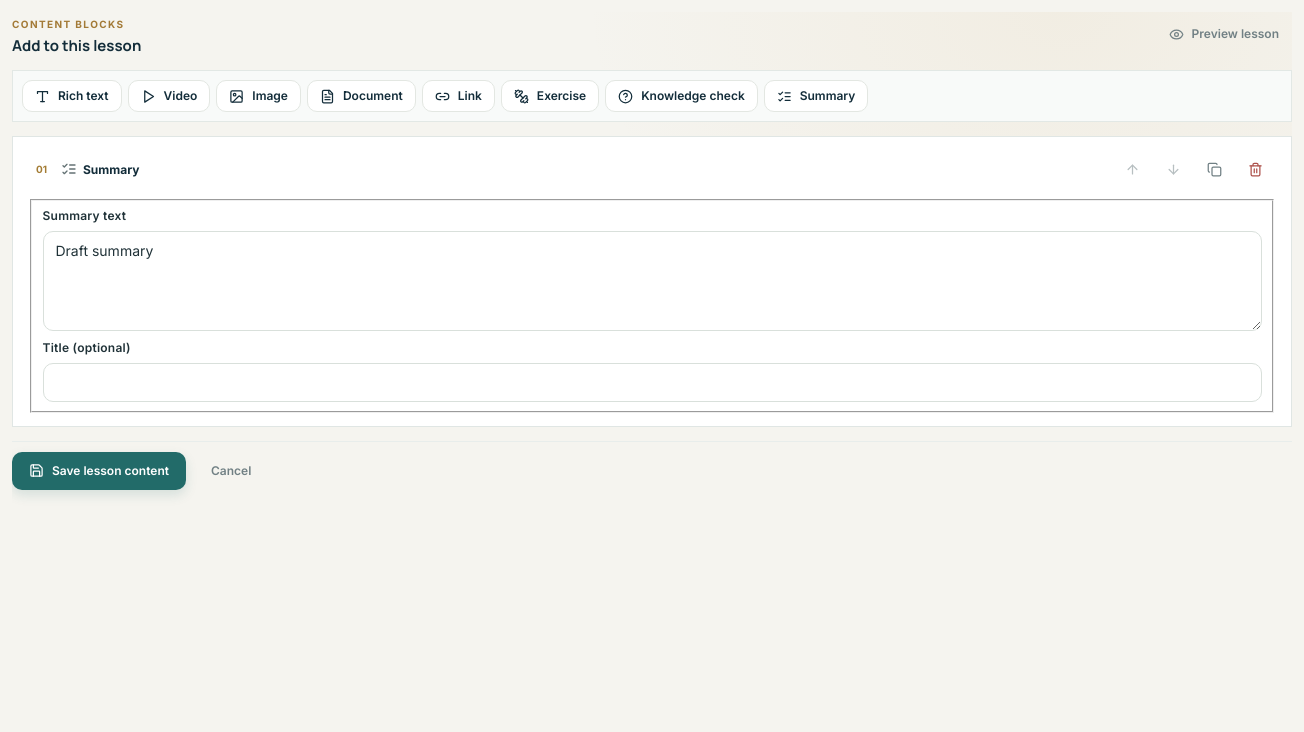
LessonContentEditor › shows API errors and keeps the unsaved draft available
Replace the text in the text box labelled "Summary text" with "Updated summary". click: coordinates (652, 281)
box: [42, 231, 1262, 331]
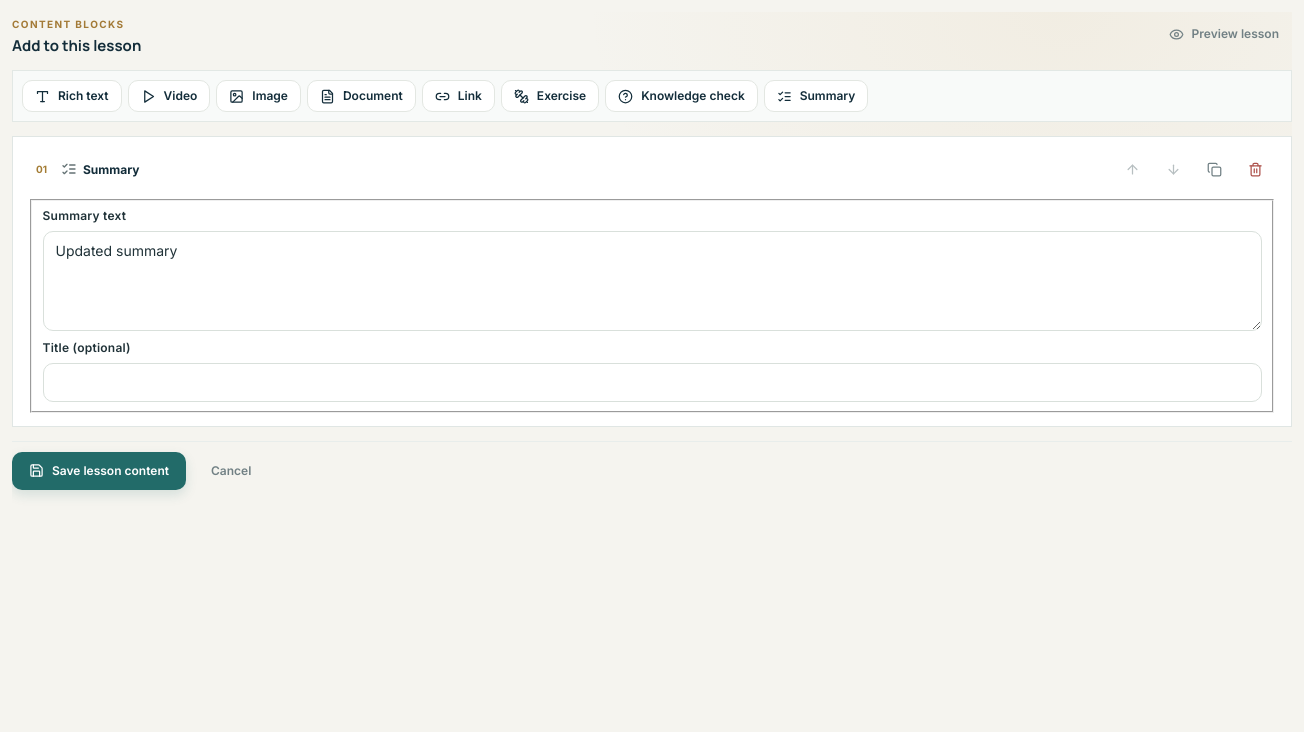
Click the button "Save lesson content". click: coordinates (99, 470)
box: [12, 452, 186, 490]
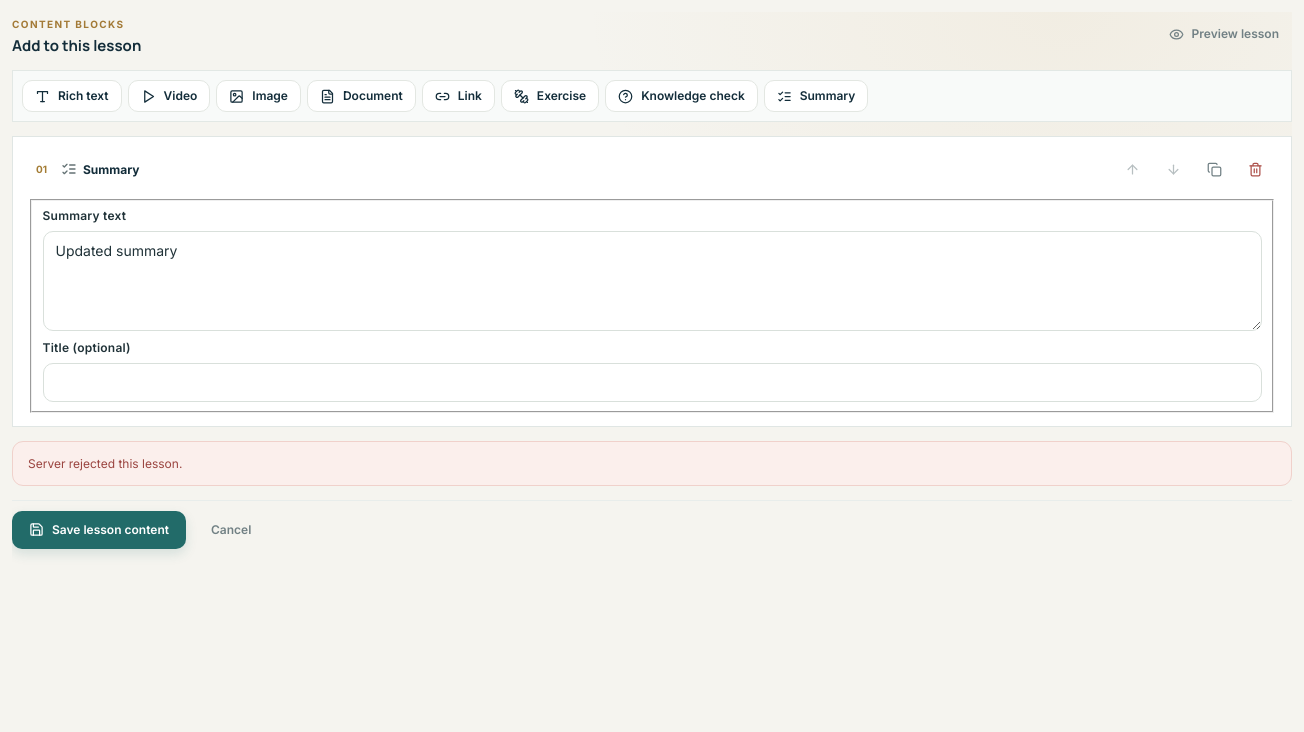
Result: the message reads "Server rejected this lesson." at [28, 456, 182, 470]
